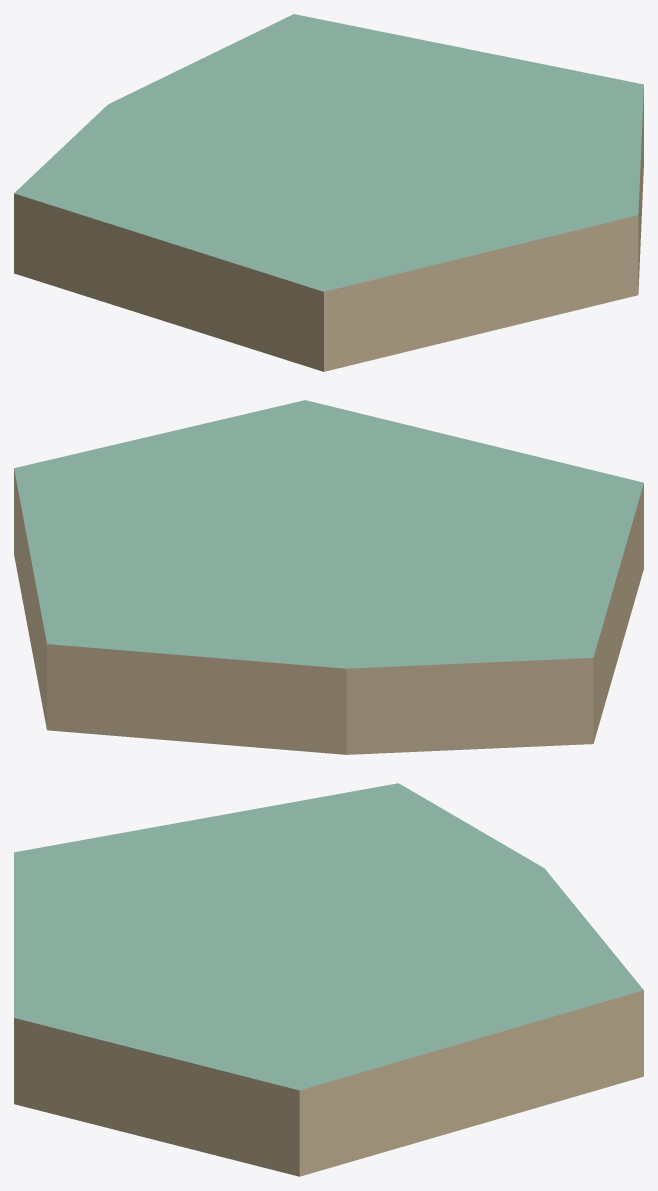
The model's file is naturePack_011.gltf.
3 views of the same model, one above another, from view 1: azimuth 30°, elevation 25°; view 2: azimuth 150°, elevation 25°; view 3: azimuth 270°, elevation 25° (orthographic). The views are drawn at different scales.
Parts seen in each view (by area): view 1: Mesh1 Group1 Model; view 2: Mesh1 Group1 Model; view 3: Mesh1 Group1 Model.
Boxes of the visible parts, box(x1,y1,x2,y2) form: Mesh1 Group1 Model: box(14, 14, 643, 371); Mesh1 Group1 Model: box(14, 400, 643, 754); Mesh1 Group1 Model: box(14, 783, 643, 1176).
Bounding box in the file's own units: 1.37 × 0.18 × 1.19.
